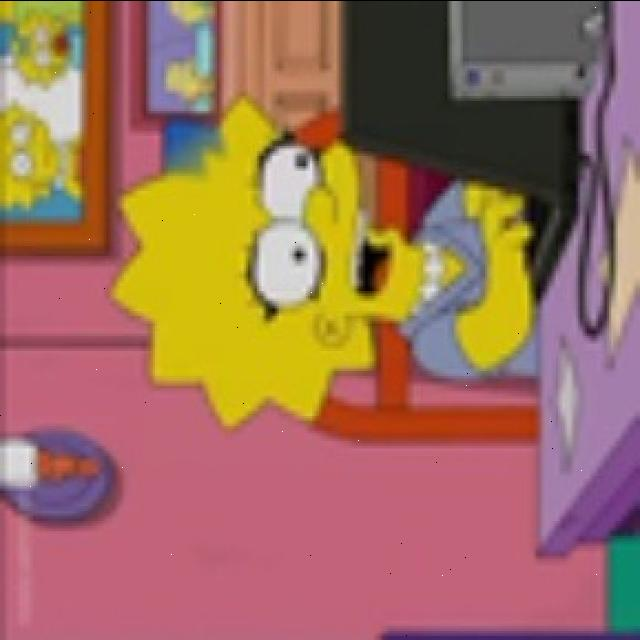Lisa Simpson: (106, 91, 425, 429)
